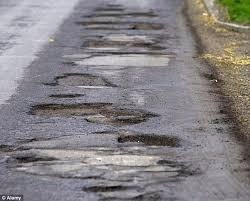pothole: (0, 141, 195, 181), (27, 102, 165, 132), (39, 70, 123, 92), (66, 51, 177, 67), (76, 18, 166, 34), (81, 38, 169, 54), (116, 132, 185, 146), (82, 11, 168, 18), (83, 184, 135, 192), (46, 92, 85, 98), (92, 5, 125, 11), (104, 1, 123, 6)
